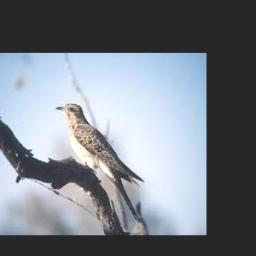Cuckoo: (56, 103, 144, 222)
